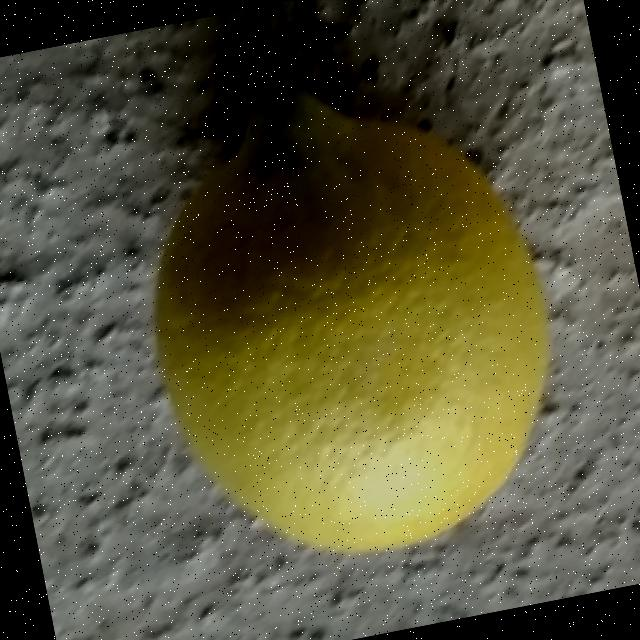Lemon: (110, 40, 581, 588)
